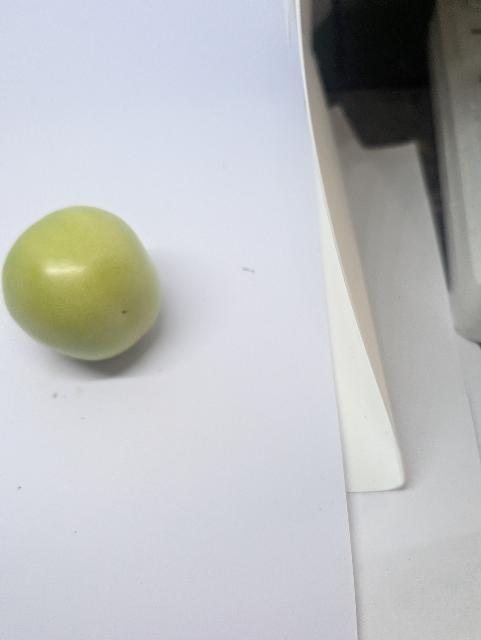green: (1, 202, 166, 365)
